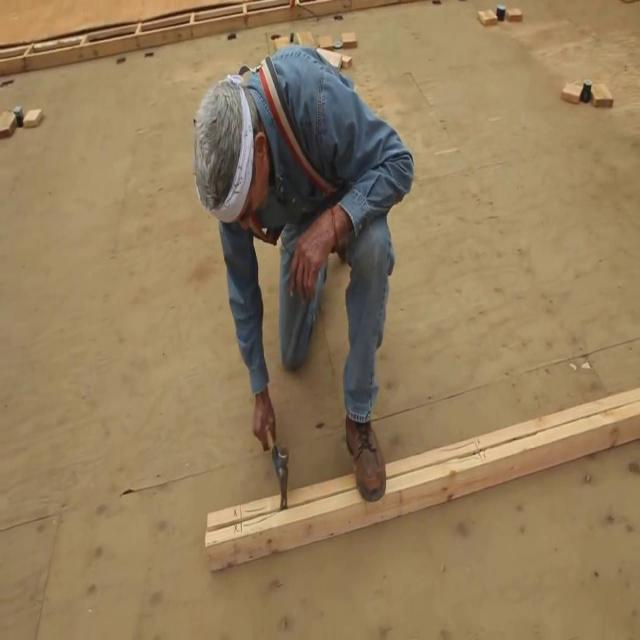hammer: (264, 420, 289, 510)
